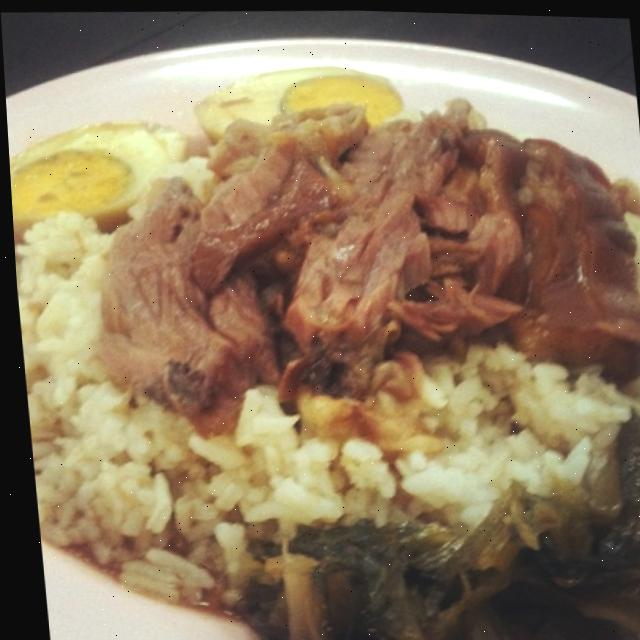猪肉菜式: (1, 25, 640, 640)
